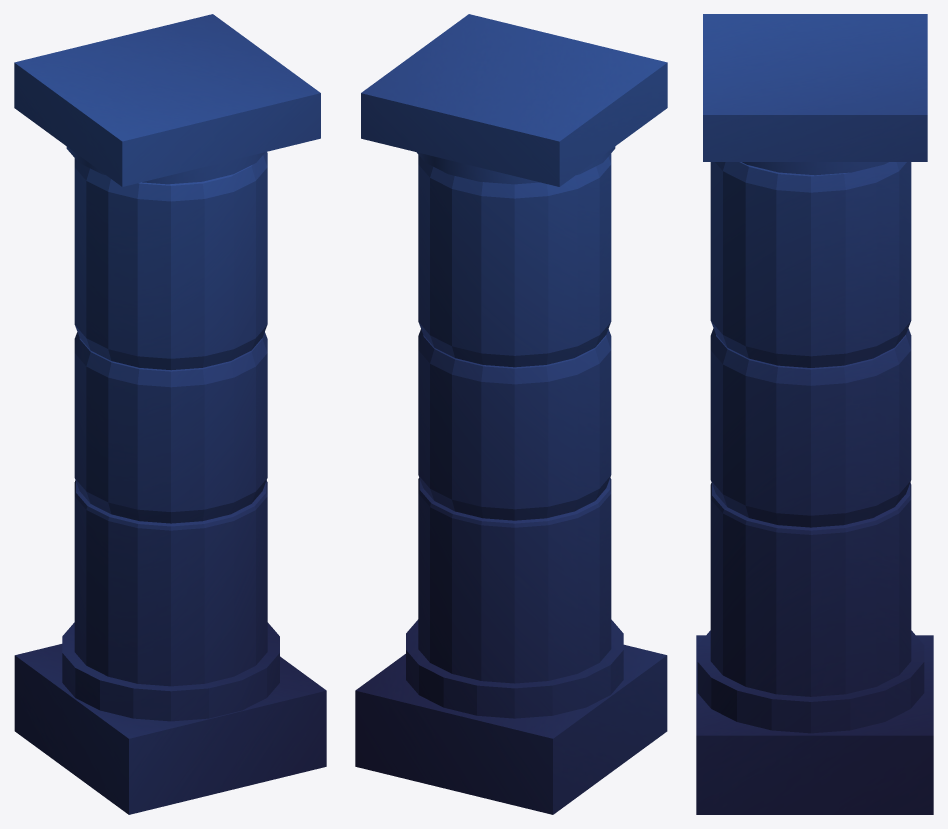
The model's file is SM_Column.fbx.
3 views of the same model, side by side, from view 1: azimuth 30°, elevation 25°; view 2: azimuth 150°, elevation 25°; view 3: azimuth 270°, elevation 25° (orthographic). The views are drawn at different scales.
Visible parts, largest first — view 1: Object008; view 2: Object008; view 3: Object008.
Boxes of the visible parts, left/top/right/bottom form: Object008: left=14, top=14, right=326, bottom=814; Object008: left=355, top=14, right=667, bottom=814; Object008: left=696, top=14, right=933, bottom=814.
Bounding box in the file's own units: 157 × 502 × 155.
